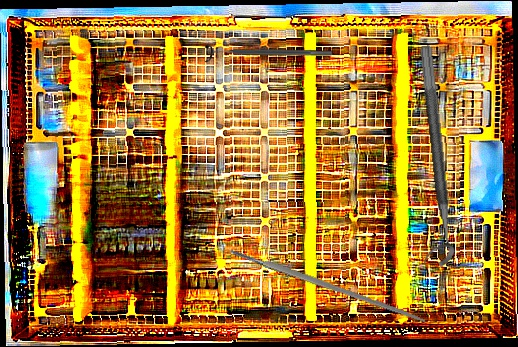Fixation Ring: (400, 44, 457, 271), (204, 43, 333, 63)
Scalpel Handle: (229, 246, 427, 325)
